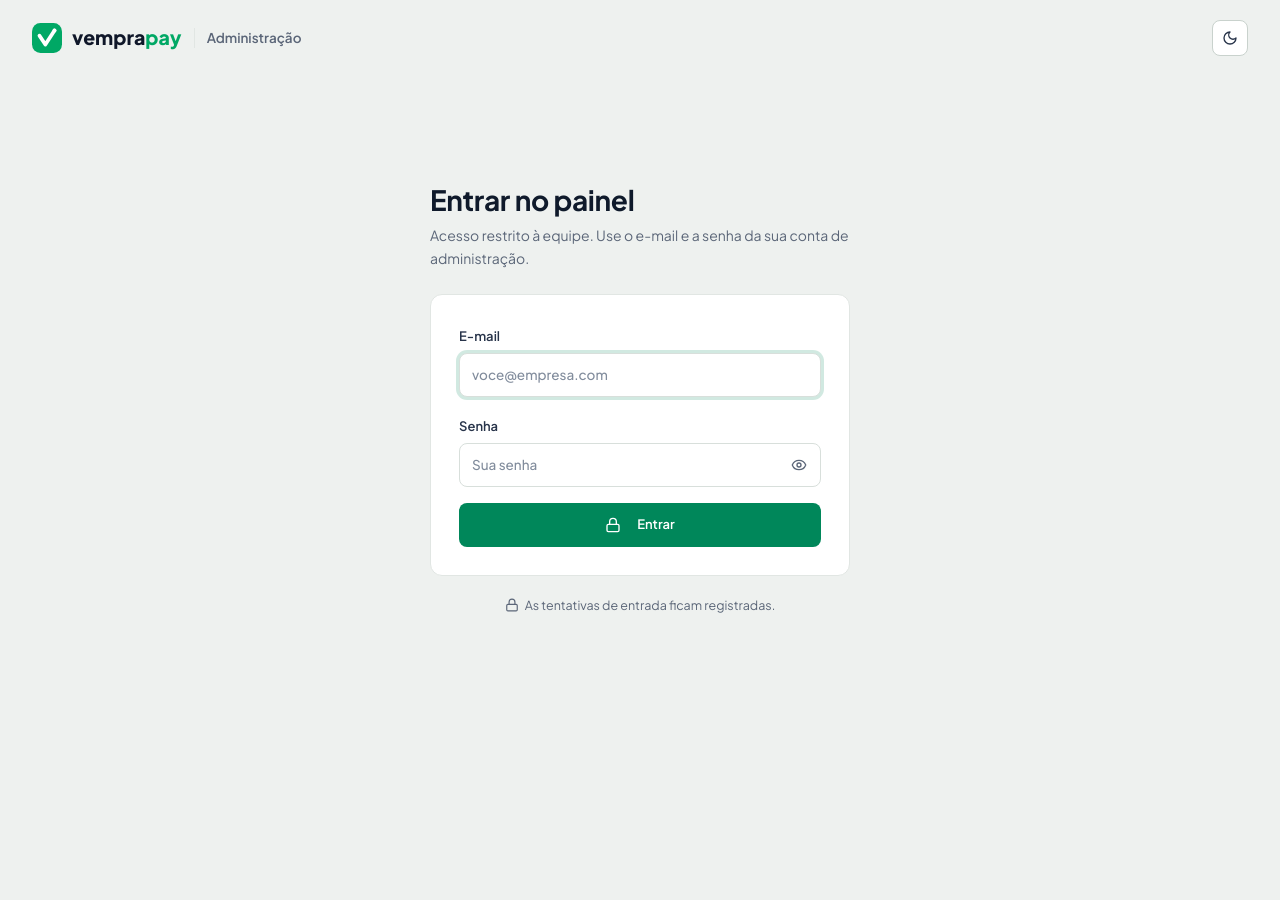
Tela de login do admin › senha incorreta: mostra o erro do servidor e continua na tela
Type "equipe@empresa.com" into the field labelled "E-mail". click: (640,375)
box: x1=459 y1=353 x2=821 y2=397
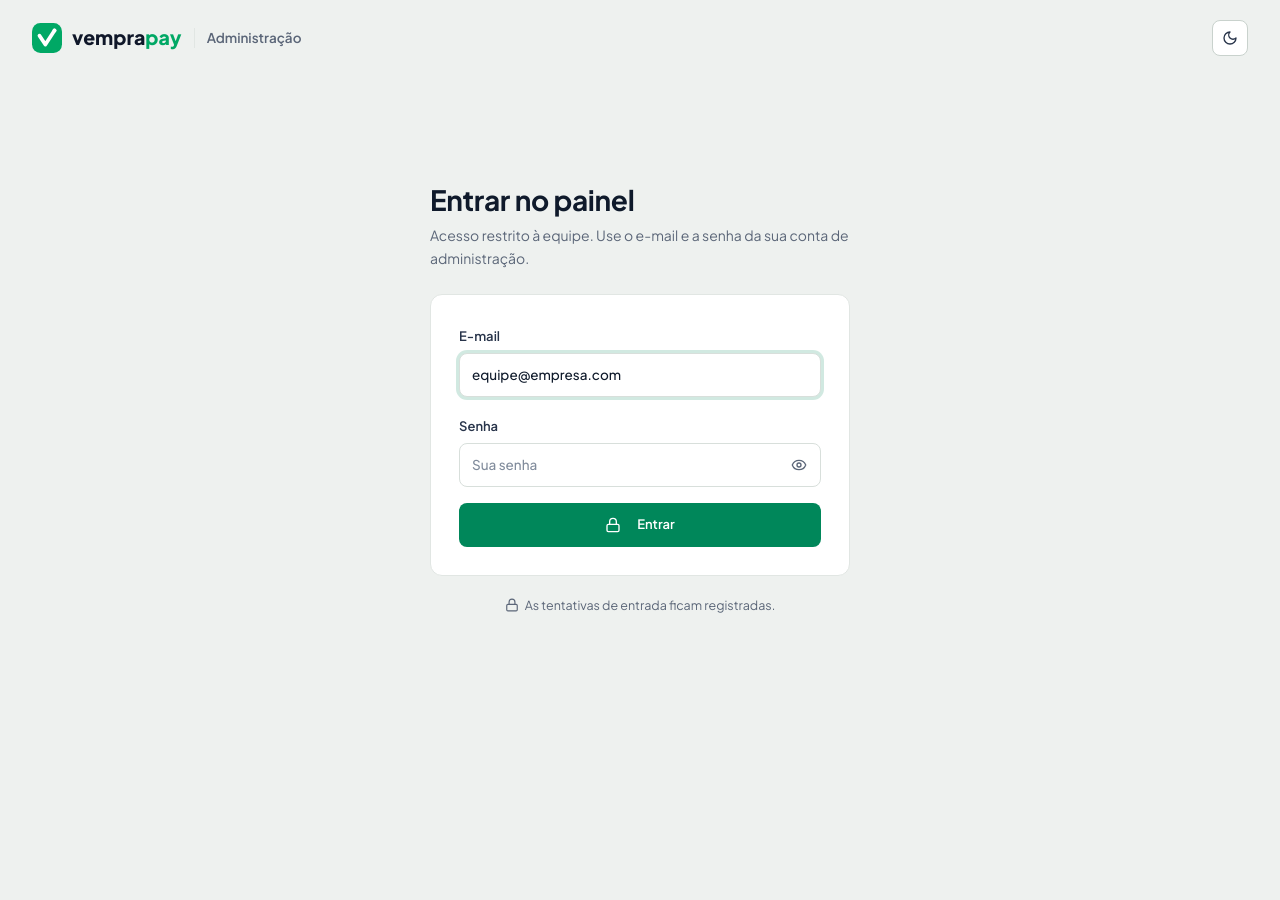
Type "errada123" into the password field labelled "Senha". click: (640,465)
box: x1=459 y1=443 x2=821 y2=487
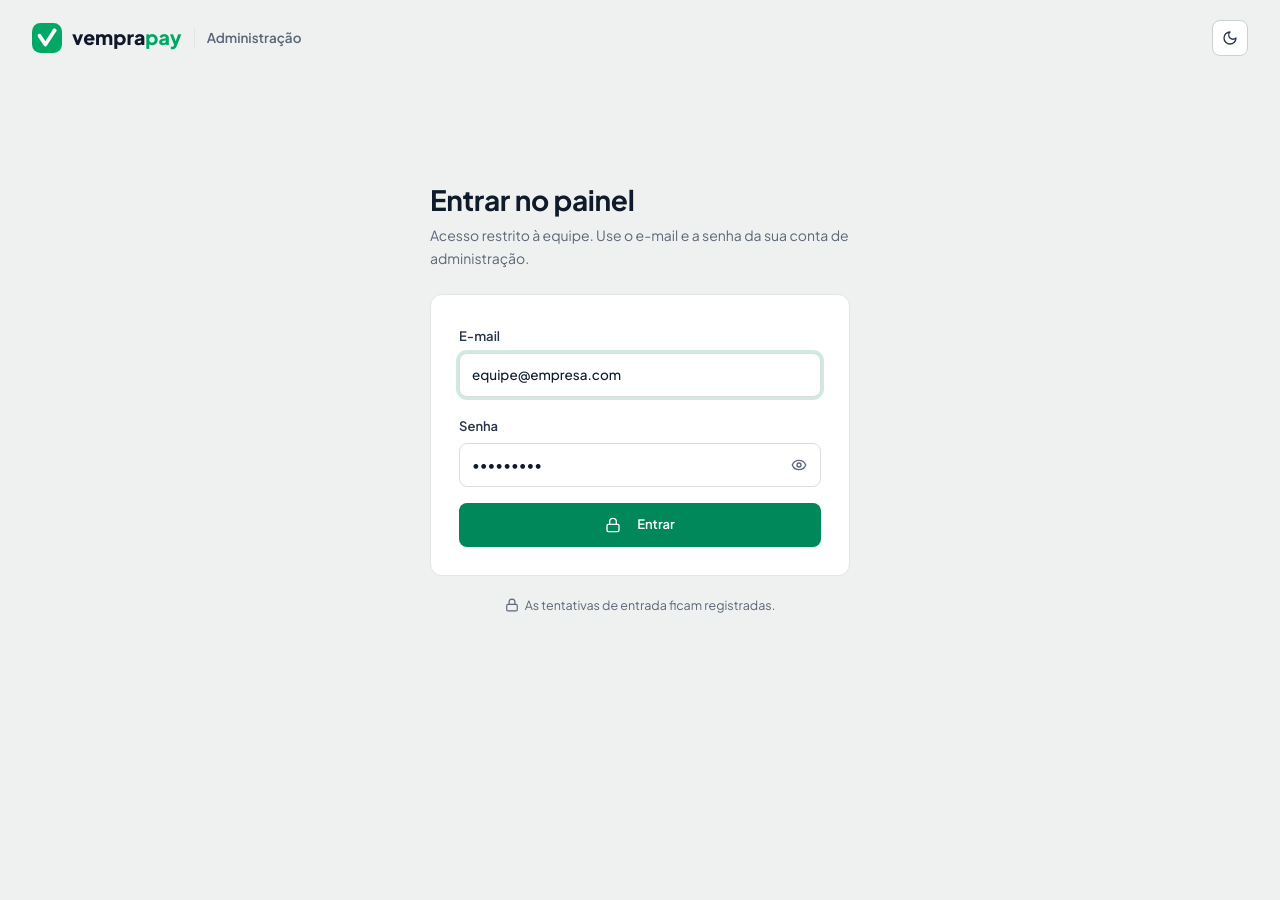
Click the button "Entrar". click: (640,525)
box: x1=459 y1=503 x2=821 y2=547
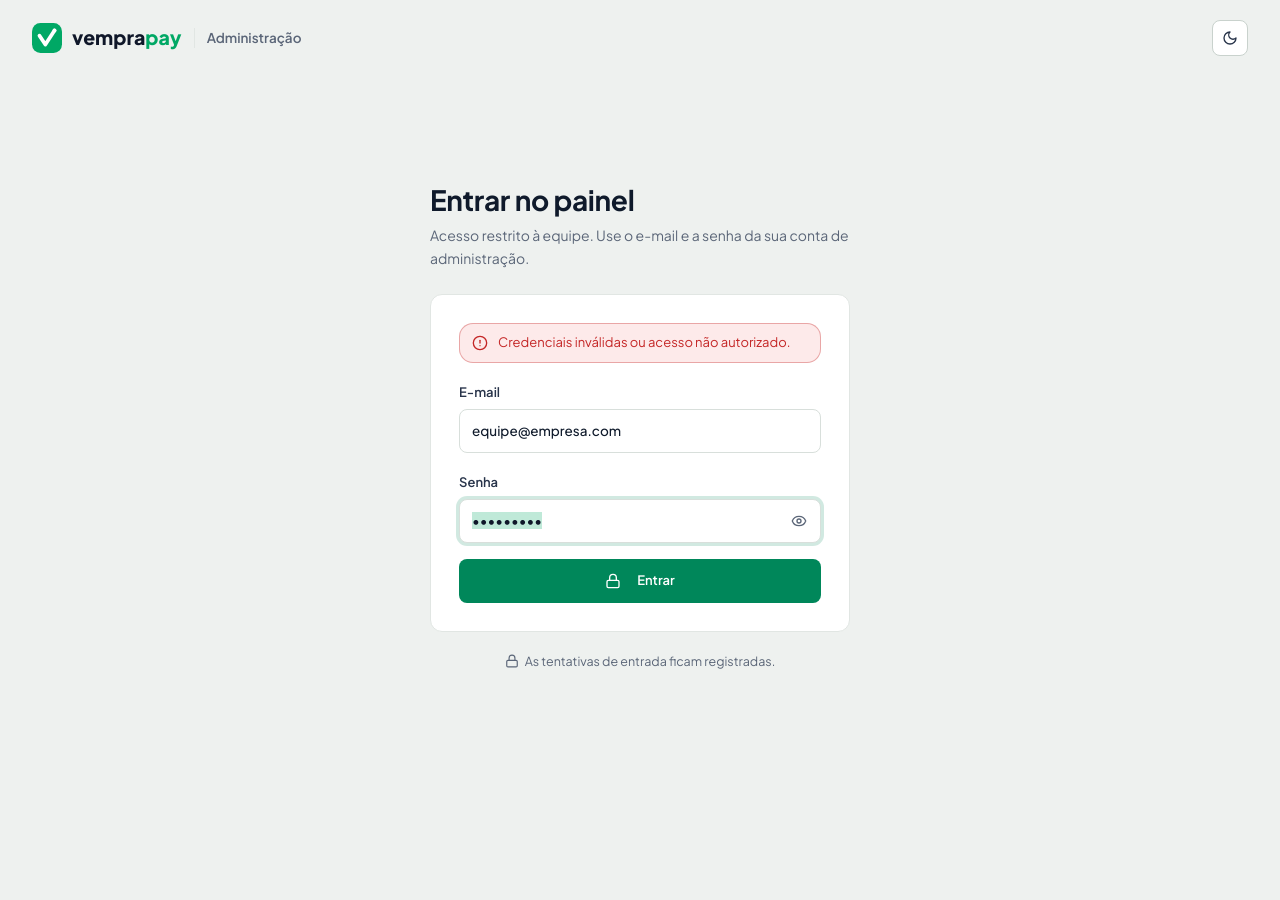
Expected: the message shows "Credenciais inválidas", x1=498 y1=334 x2=790 y2=350
